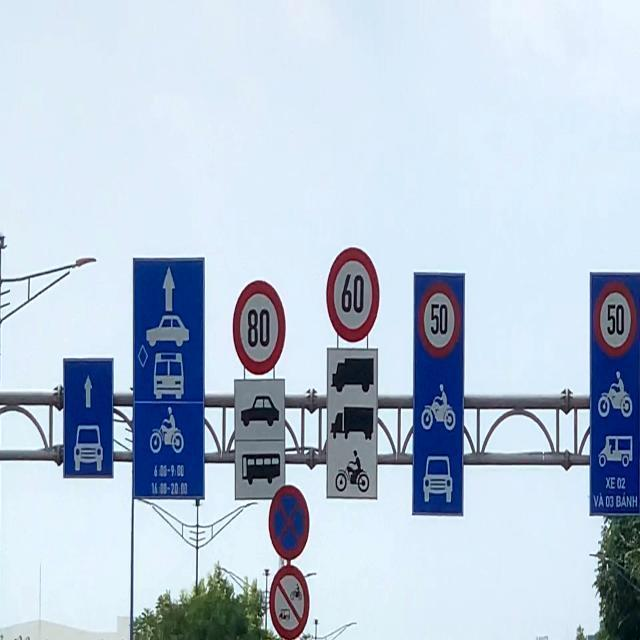127-toc-do-toi-da-50: (594, 282, 640, 358), (422, 284, 462, 359)
127-toc-do-toi-da-60: (326, 246, 382, 340)
127-toc-do-toi-da-80: (228, 280, 286, 372)
130-cam-dung-va-do-xe: (268, 483, 312, 560)
